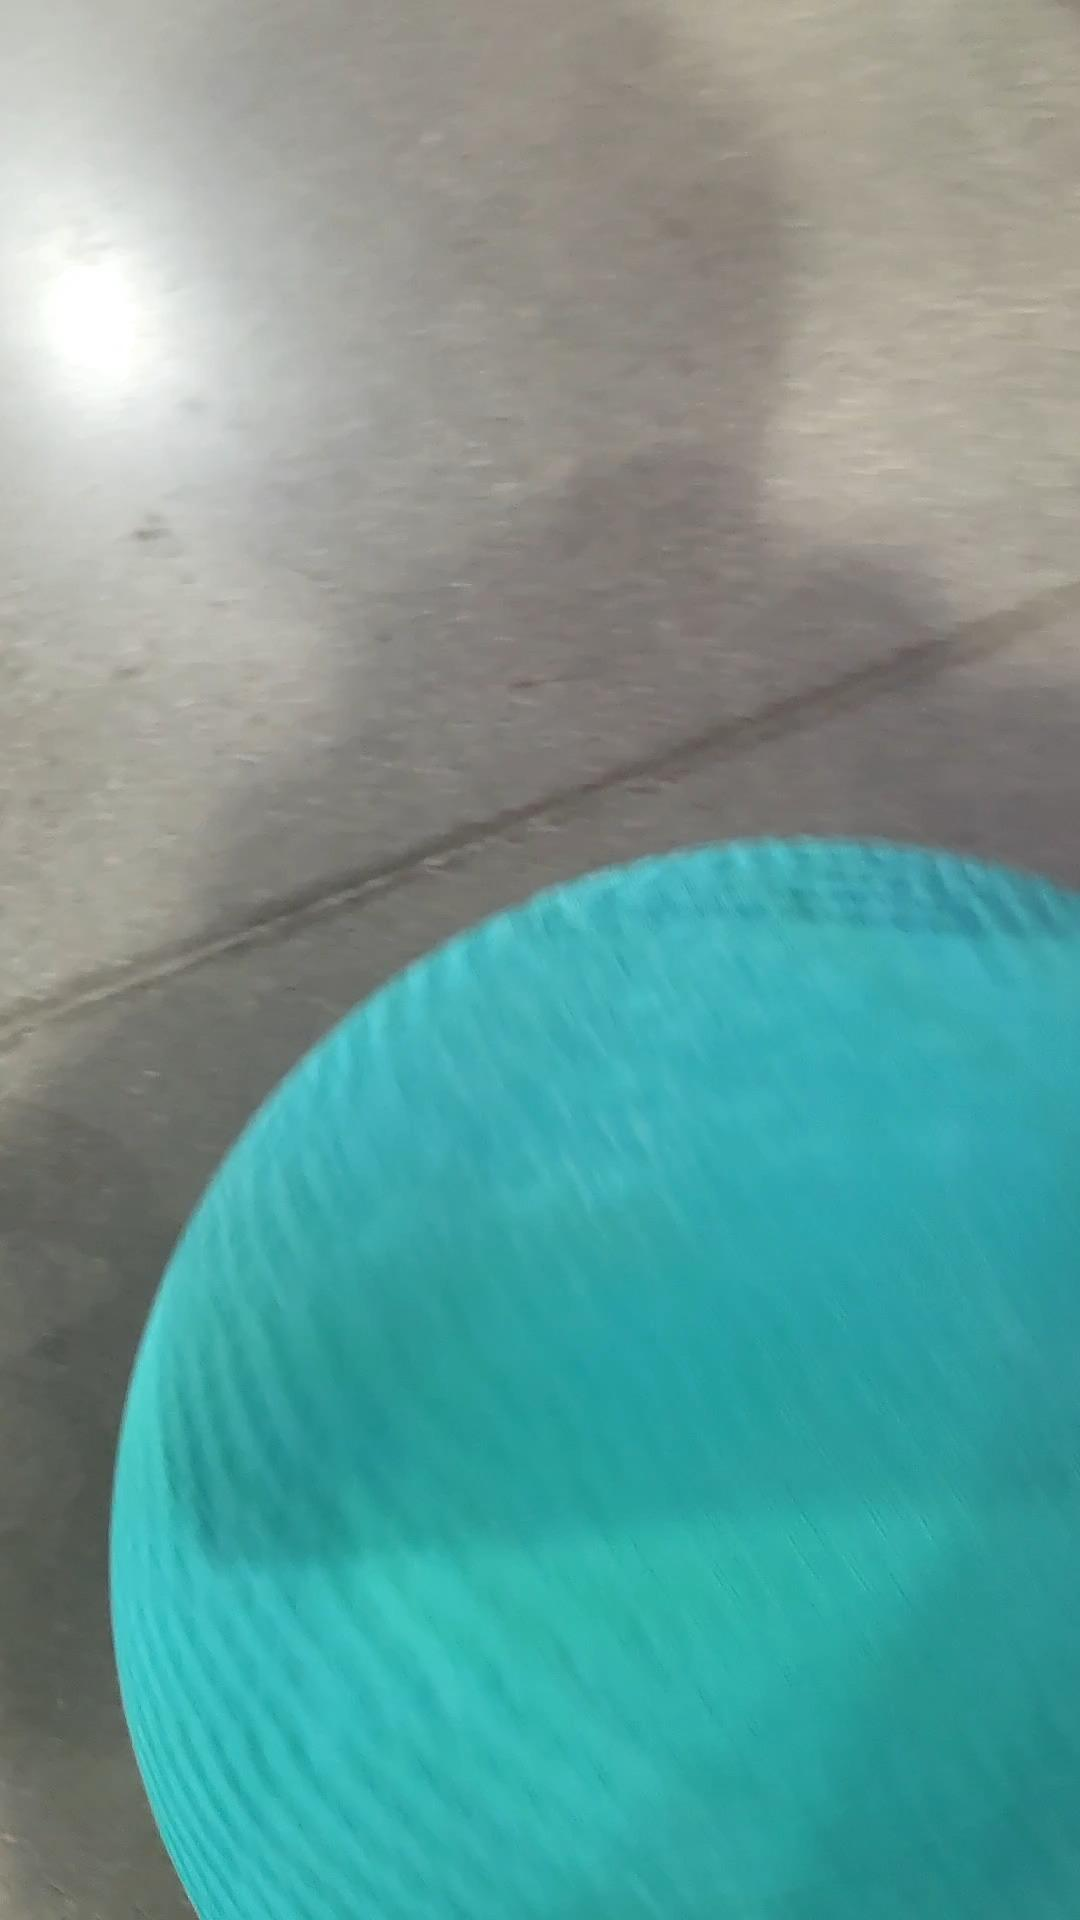algae: (91, 825, 1079, 1920)
